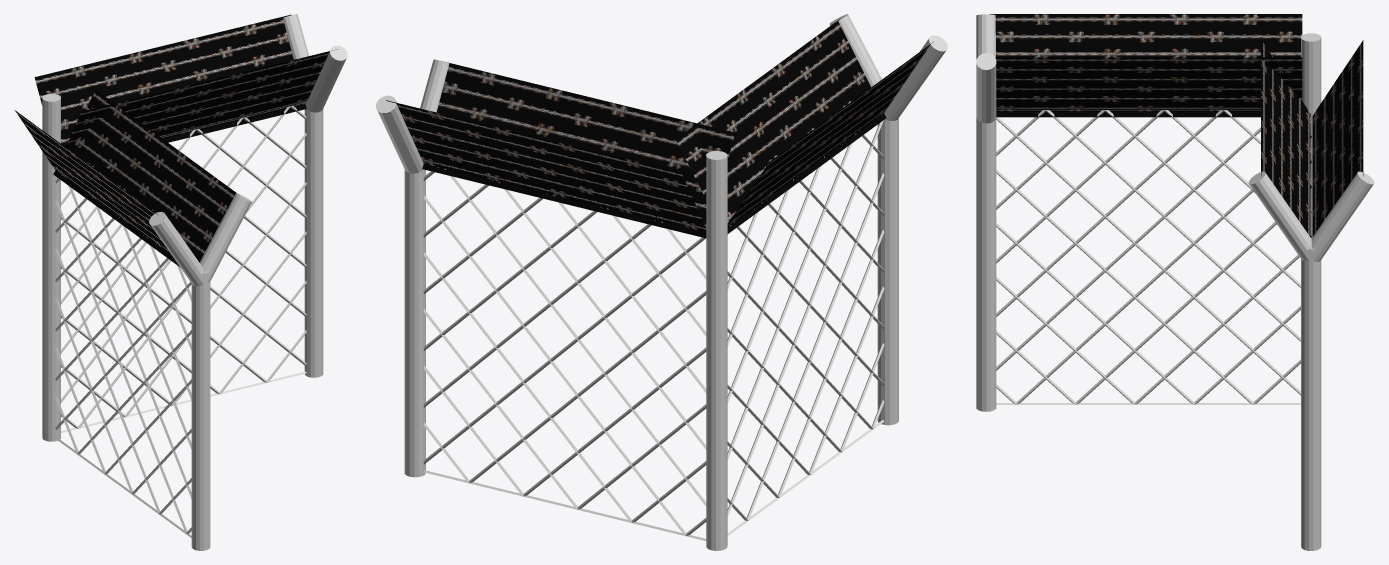
File: CornerBarbedWireFence.fbx
3 views of the same model, side by side, from view 1: azimuth 30°, elevation 25°; view 2: azimuth 150°, elevation 25°; view 3: azimuth 270°, elevation 25° (orthographic). The views are drawn at different scales.
Visible parts, largest first — view 1: Plane.001, Plane.004, Grid.002, Plane, Grid, Cylinder.001, Cylinder.007, Cylinder, Plane.005, Cylinder.004, Cylinder.005, Cylinder.002 (+1 smaller); view 2: Plane, Grid, Plane.001, Plane.004, Grid.002, Cylinder.001, Cylinder, Cylinder.007, Plane.005, Cylinder.003, Cylinder.005, Cylinder.004 (+1 smaller); view 3: Plane.004, Grid.002, Plane.005, Plane.001, Cylinder, Plane, Cylinder.007, Cylinder.003, Cylinder.002, Cylinder.001, Cylinder.004, Cylinder.005.
Boxes of the visible parts, bbox=[...] form: Plane.001: bbox=[34, 14, 306, 146]; Plane.004: bbox=[53, 90, 239, 266]; Grid.002: bbox=[55, 175, 191, 537]; Plane: bbox=[66, 49, 338, 148]; Grid: bbox=[61, 102, 306, 433]; Cylinder.001: bbox=[42, 94, 60, 441]; Cylinder.007: bbox=[191, 272, 210, 550]; Cylinder: bbox=[304, 100, 323, 377]; Plane.005: bbox=[15, 110, 171, 254]; Cylinder.004: bbox=[199, 193, 251, 282]; Cylinder.005: bbox=[149, 211, 203, 285]; Cylinder.002: bbox=[306, 45, 347, 112]; Plane: bbox=[422, 61, 735, 238]; Grid: bbox=[423, 167, 706, 540]; Plane.001: bbox=[386, 100, 706, 232]; Plane.004: bbox=[675, 18, 886, 233]; Grid.002: bbox=[727, 120, 884, 535]; Cylinder.001: bbox=[706, 151, 727, 550]; Cylinder: bbox=[404, 163, 425, 477]; Cylinder.007: bbox=[877, 118, 898, 425]; Plane.005: bbox=[727, 42, 933, 227]; Cylinder.003: bbox=[376, 95, 422, 173]; Cylinder.005: bbox=[884, 35, 947, 120]; Cylinder.004: bbox=[829, 14, 882, 86]; Plane.004: bbox=[995, 57, 1302, 111]; Grid.002: bbox=[996, 110, 1300, 404]; Plane.005: bbox=[989, 14, 1302, 117]; Plane.001: bbox=[1312, 40, 1363, 236]; Cylinder: bbox=[1301, 248, 1321, 550]; Plane: bbox=[1261, 40, 1311, 237]; Cylinder.007: bbox=[976, 118, 996, 411]; Cylinder.003: bbox=[1311, 171, 1374, 261]; Cylinder.002: bbox=[1248, 171, 1312, 261]; Cylinder.001: bbox=[1301, 33, 1321, 115]; Cylinder.004: bbox=[976, 53, 996, 123]; Cylinder.005: bbox=[976, 14, 995, 59].
Bounding box in the file's own units: 247 × 253 × 245.
1 material, 1 textured.
